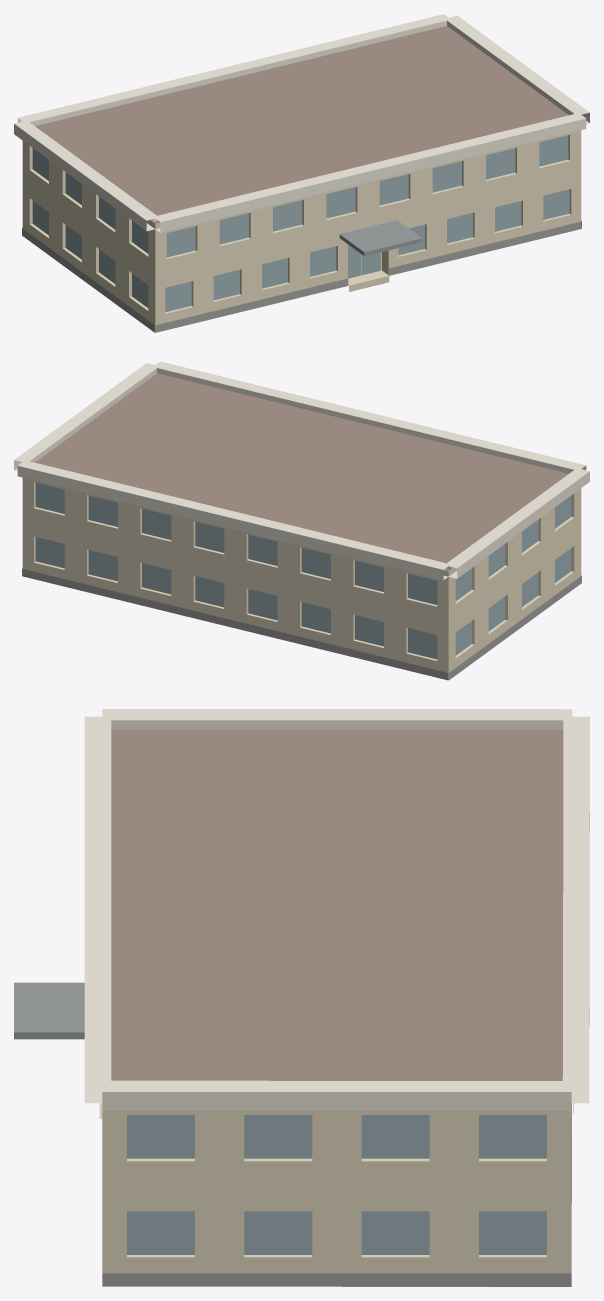
The picture shows the model from 3 angles, top to bottom: view 1: azimuth 30°, elevation 25°; view 2: azimuth 150°, elevation 25°; view 3: azimuth 270°, elevation 25°; orthographic projection. The views are drawn at different scales.
Parts seen in each view (by area): view 1: b115951827__roof, b115951827__wall, b115951827__trim, b115951827__glass, b115951827__base, b115951827__canopy, b115951827__entranceThreshold_0; view 2: b115951827__roof, b115951827__wall, b115951827__trim, b115951827__glass, b115951827__base; view 3: b115951827__roof, b115951827__wall, b115951827__trim, b115951827__glass, b115951827__base, b115951827__canopy.
Boxes of the visible parts, left/top/right/bottom form: b115951827__roof: left=35, top=26, right=568, bottom=285; b115951827__wall: left=22, top=130, right=581, bottom=332; b115951827__trim: left=14, top=14, right=589, bottom=232; b115951827__glass: left=32, top=135, right=569, bottom=312; b115951827__base: left=22, top=221, right=581, bottom=332; b115951827__canopy: left=339, top=220, right=422, bottom=256; b115951827__entranceThreshold_0: left=348, top=270, right=389, bottom=291; b115951827__roof: left=35, top=373, right=568, bottom=680; b115951827__wall: left=22, top=477, right=581, bottom=679; b115951827__trim: left=14, top=361, right=589, bottom=580; b115951827__glass: left=35, top=482, right=571, bottom=659; b115951827__base: left=22, top=568, right=581, bottom=680; b115951827__roof: left=111, top=729, right=571, bottom=1286; b115951827__wall: left=102, top=1103, right=571, bottom=1273; b115951827__trim: left=84, top=709, right=589, bottom=1110; b115951827__glass: left=127, top=1115, right=546, bottom=1254; b115951827__base: left=102, top=1103, right=573, bottom=1286; b115951827__canopy: left=14, top=982, right=84, bottom=1039.
Bounding box in the file's own units: 30.74 × 7.95 × 19.54.
